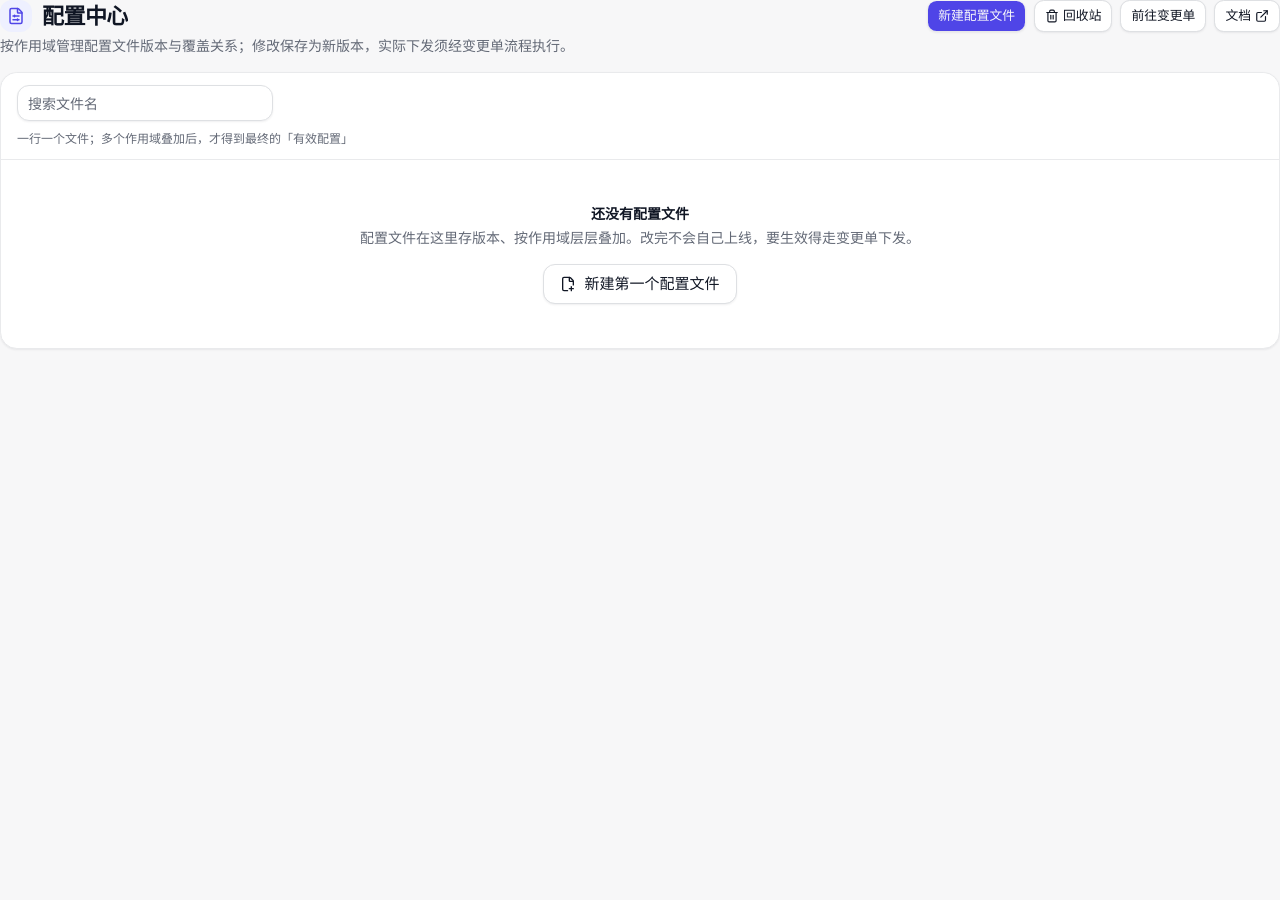
Test: /configs 配置中心页 › 空态给出新建引导文案
Expected: the heading "还没有配置文件" is shown, [591,204,689,224]
Click the button "新建第一个配置文件": (640, 284) [544,264,736,304]
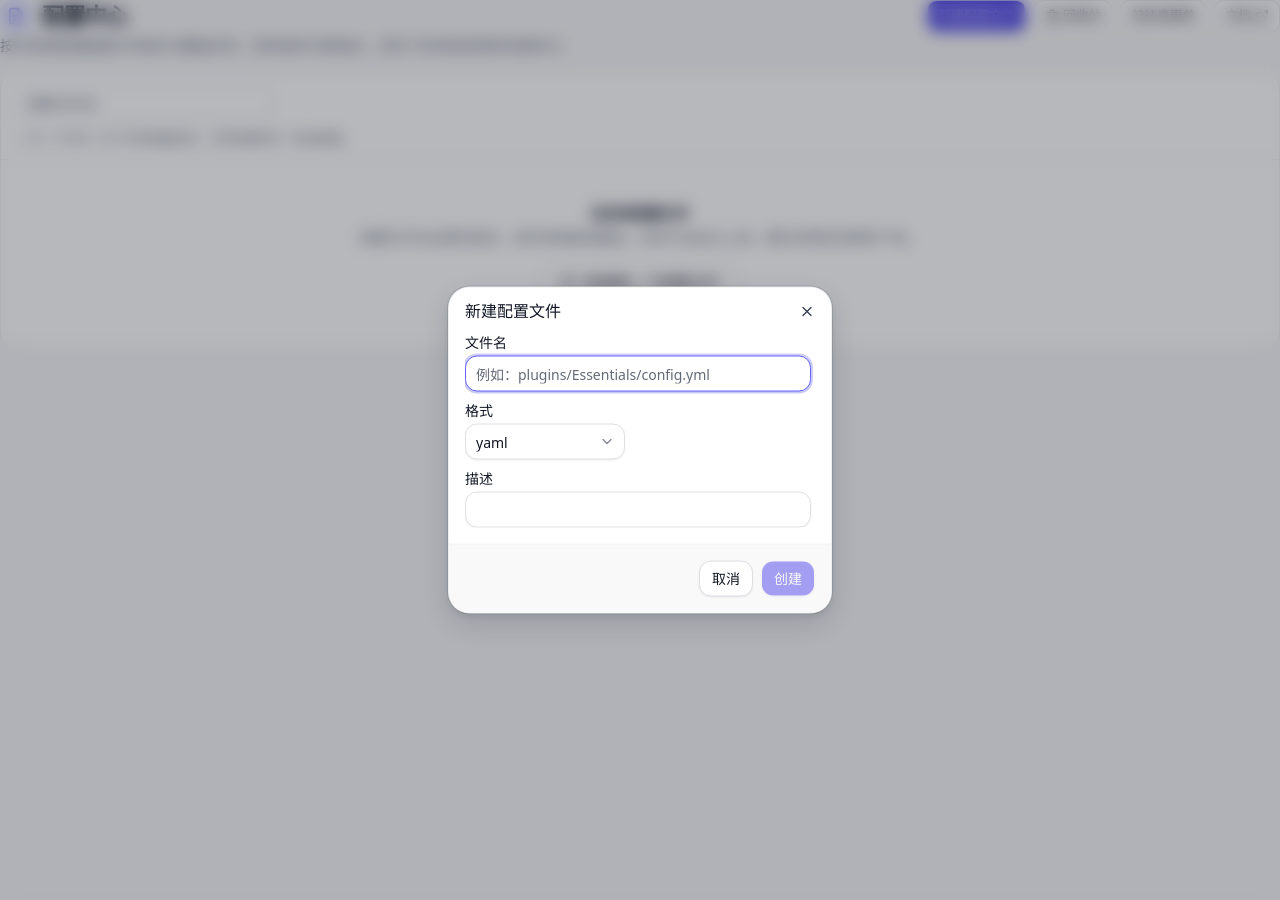
Expected: the dialog is shown, [448,286,832,614]
